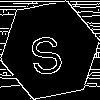S: (25, 25, 66, 77)
